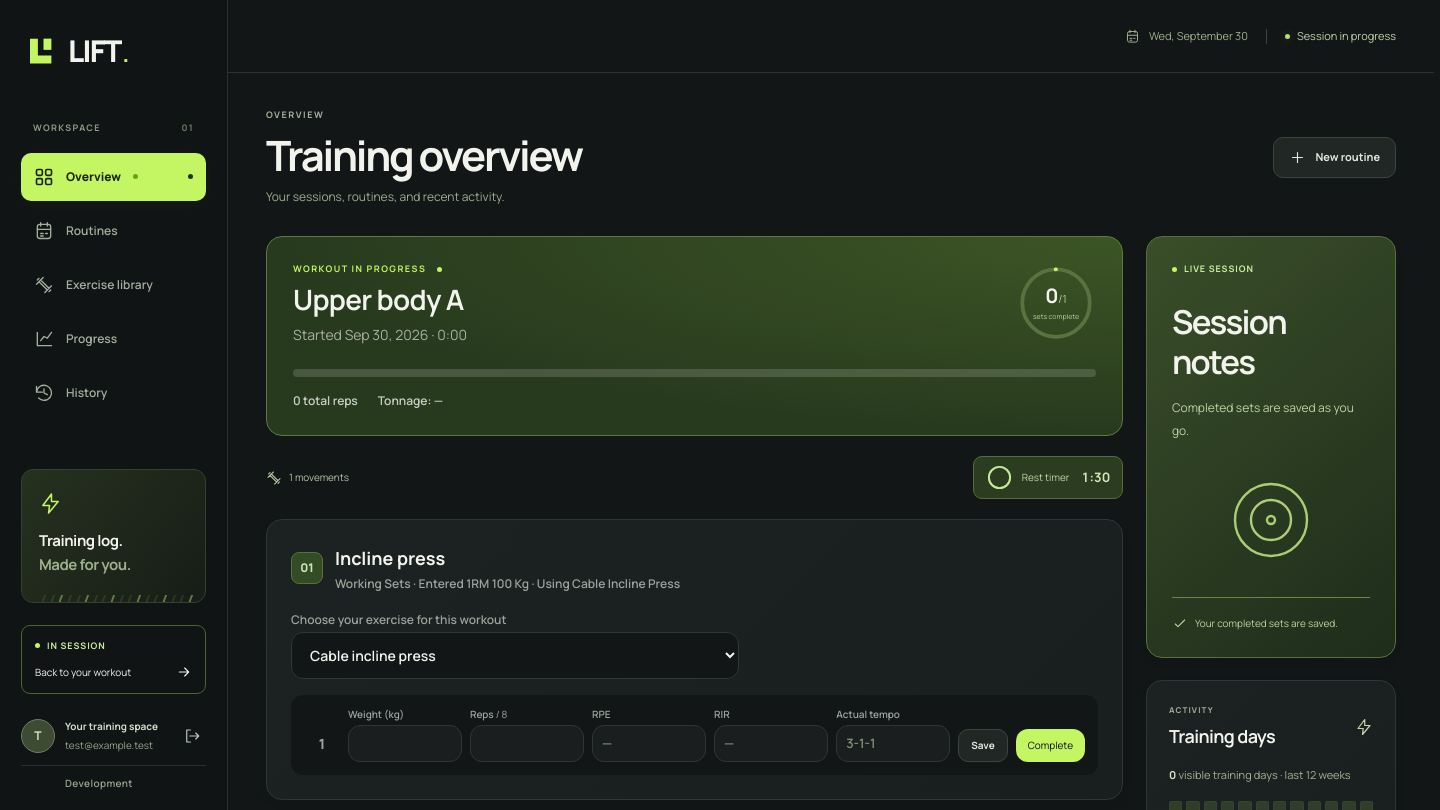
Test: Training studio › keeps the rest timer running when a set is completed and saved
Check: the heading "Training overview" is shown, box left=266, top=131, right=582, bottom=179
Click the button with aria-label "Start rest timer at 1:30".
click(1048, 478)  # box left=973, top=456, right=1123, bottom=499
Wait 2000 ms
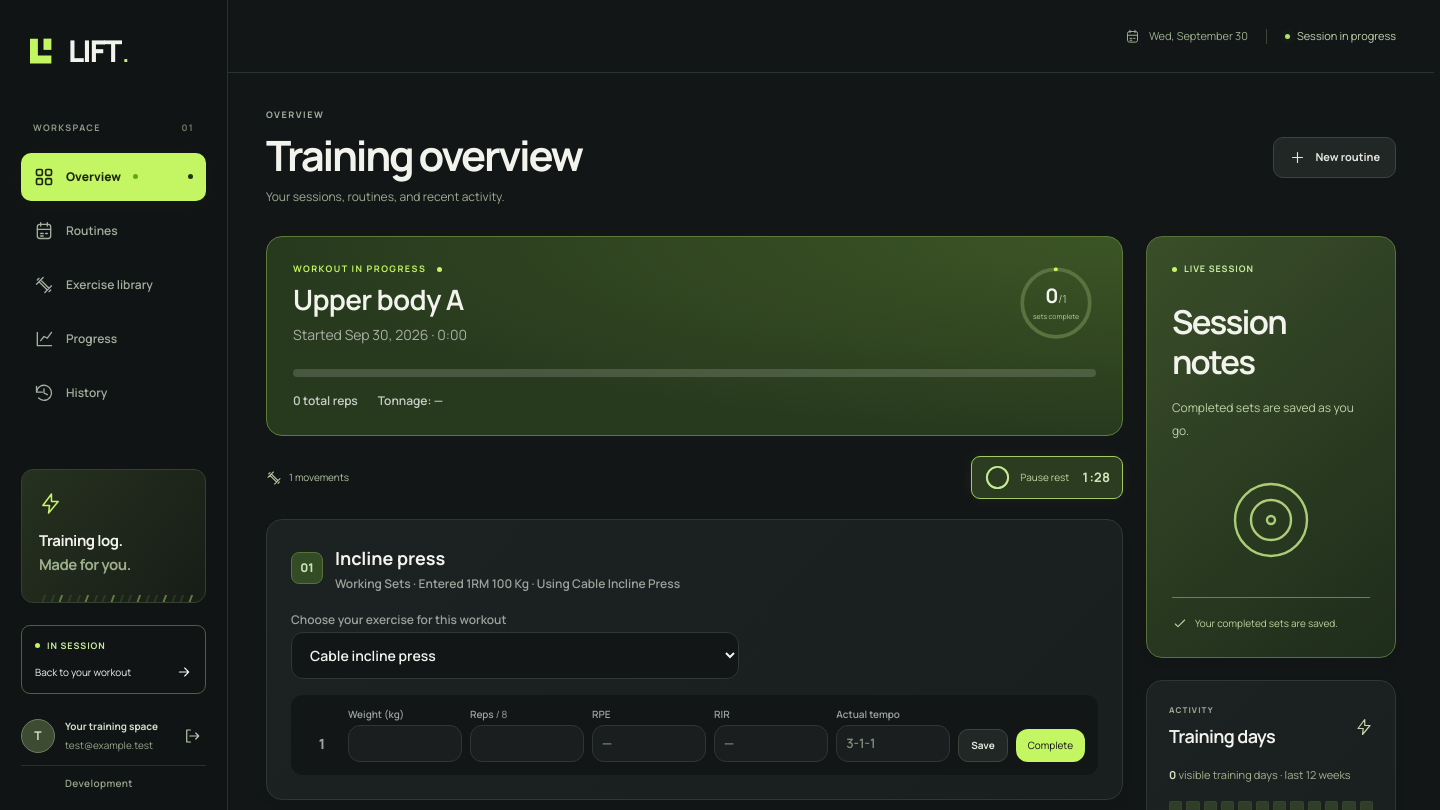
Check: the button with aria-label "Pause rest timer at 1:28" is shown, box left=971, top=456, right=1123, bottom=499
Type "60" into the number field labelled "Weight (kg)".
click(405, 744); type("60")  # box left=348, top=725, right=462, bottom=762
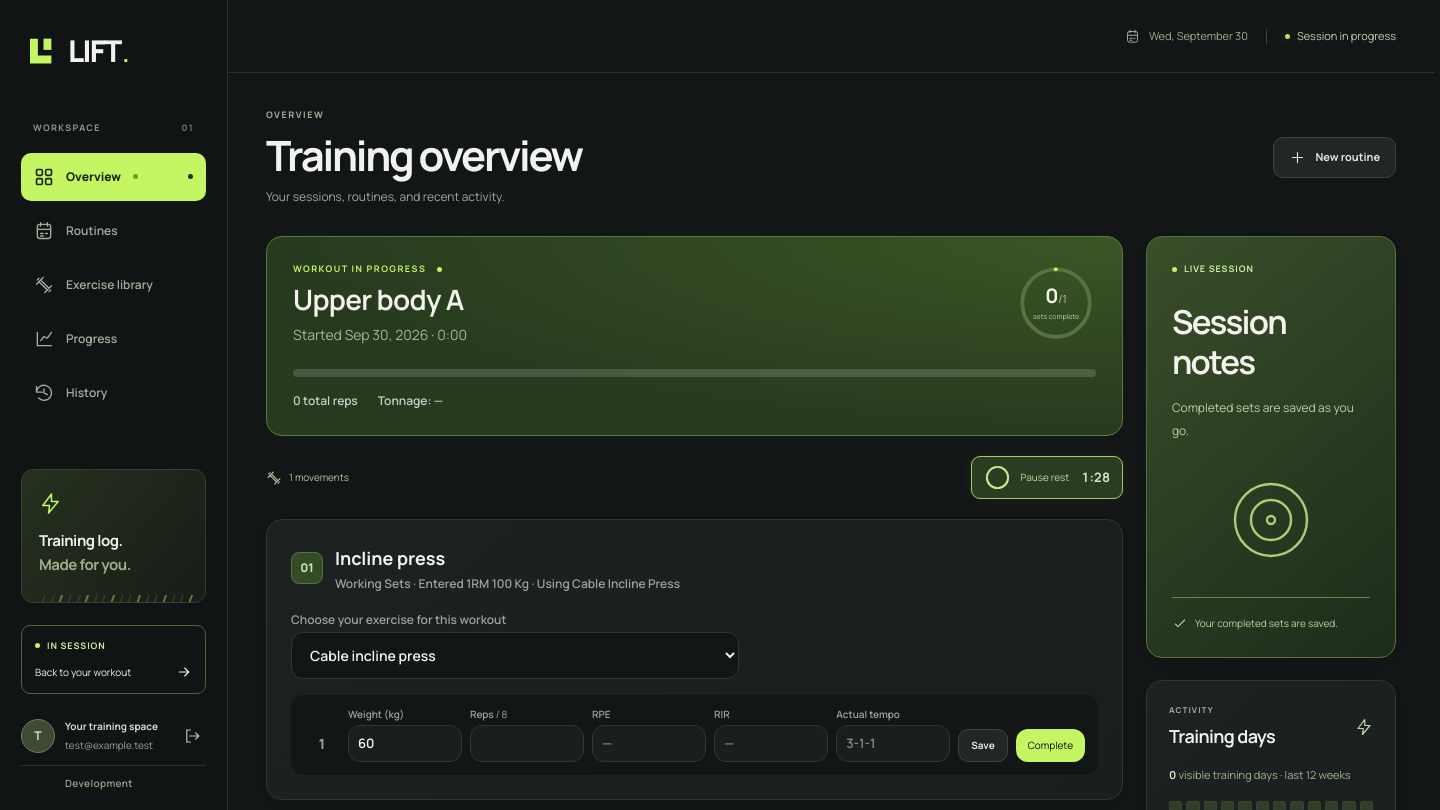
Type "8" into the number field labelled "Reps / 8".
click(527, 744); type("8")  # box left=470, top=725, right=584, bottom=762
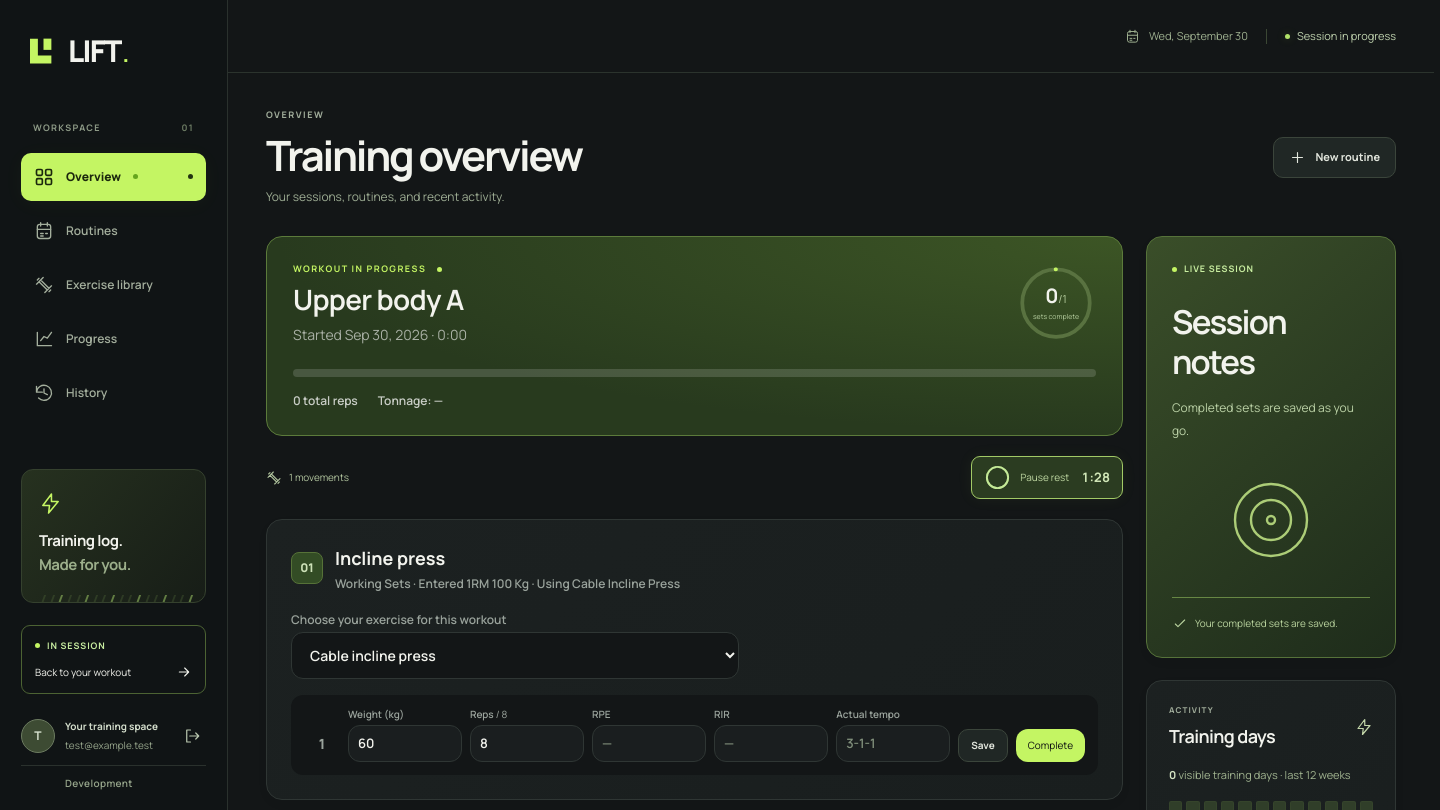
Click the button "Complete".
click(1050, 745)  # box left=1016, top=729, right=1085, bottom=762
Wait 88000 ms
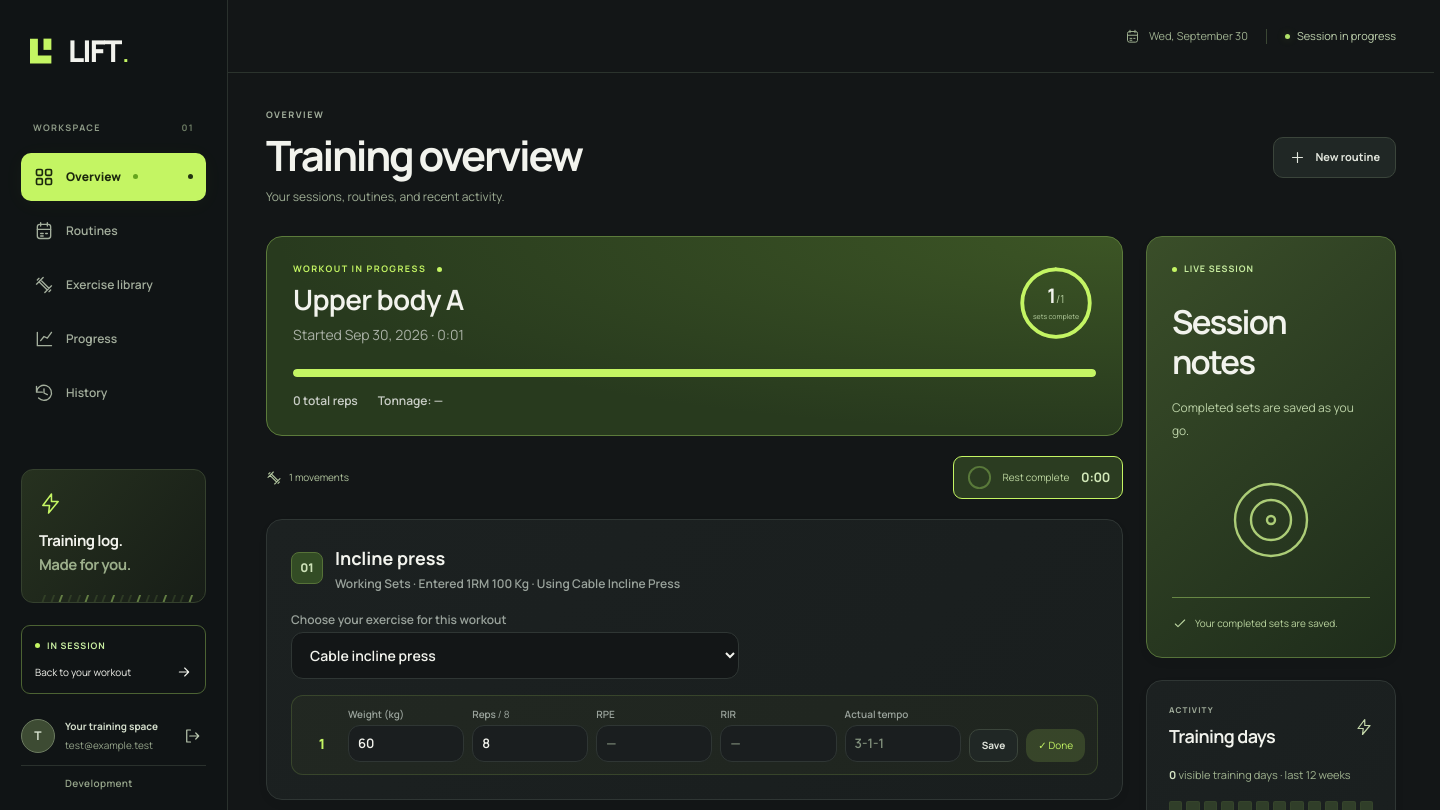
Check: the button named "Pause rest timer at 1:28" is shown, box left=953, top=456, right=1123, bottom=499
Check: the button "✓ Done" is shown, box left=1026, top=729, right=1085, bottom=762
Check: the text "Rest complete" is shown, box left=1002, top=470, right=1069, bottom=484
